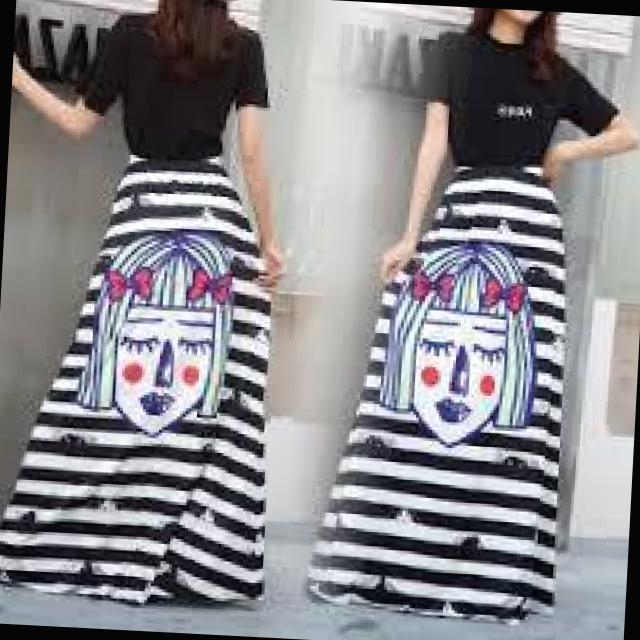Tshirt: (42, 0, 298, 183), (404, 14, 630, 182)
skirt: (298, 152, 597, 621), (0, 142, 290, 623)
